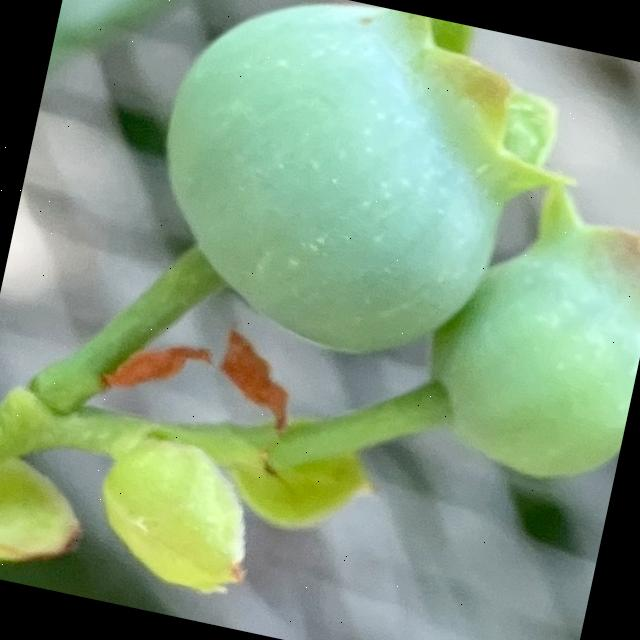Blueberries: (127, 0, 578, 390)
